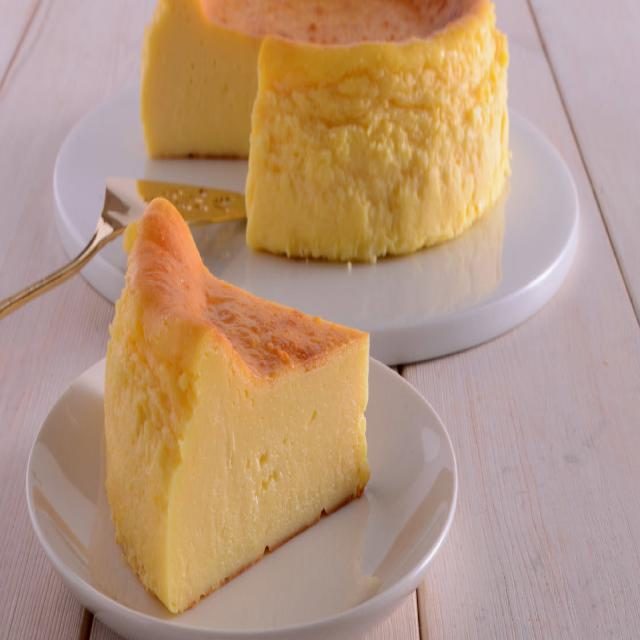cheesecake: (103, 193, 372, 611)
